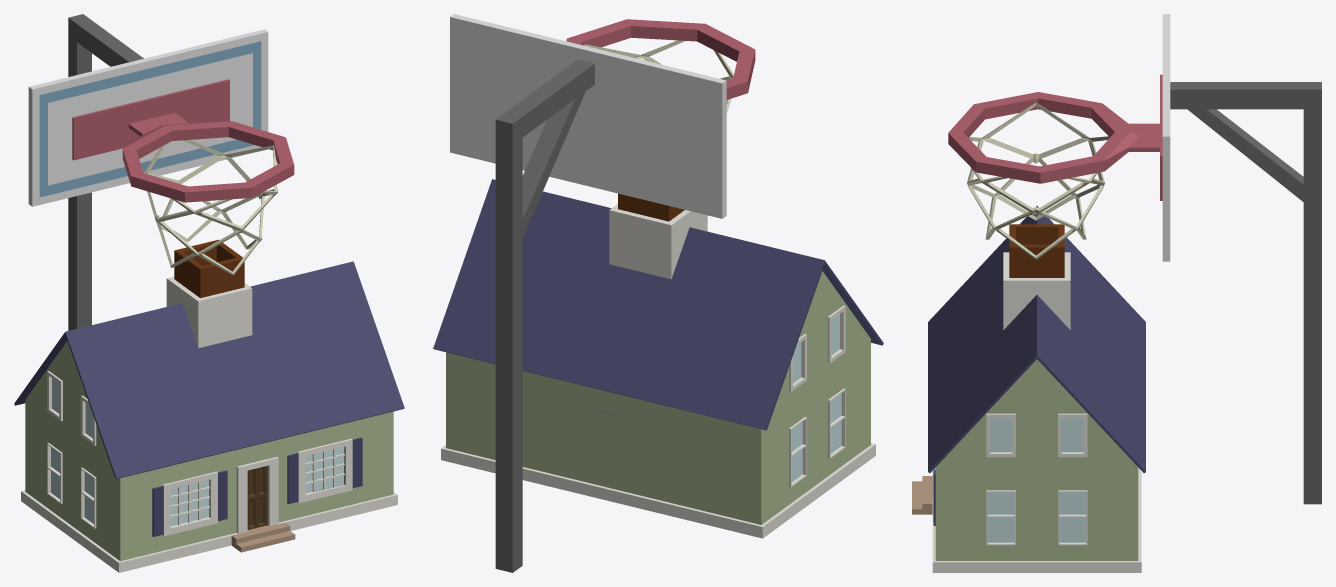
File: goalHouse_mdl_v001.fbx
3 views of the same model, side by side, from view 1: azimuth 30°, elevation 25°; view 2: azimuth 150°, elevation 25°; view 3: azimuth 270°, elevation 25° (orthographic). The views are drawn at different scales.
Visible parts, largest first — view 1: house, backboard, hoop, stand, net, door; view 2: house, backboard, stand, hoop, net; view 3: house, stand, hoop, net, backboard.
Boxes of the visible parts, x1=… form: house: x1=14, y1=239, x2=404, y2=572; backboard: x1=28, y1=29, x2=268, y2=206; hoop: x1=72, y1=79, x2=294, y2=202; stand: x1=68, y1=14, x2=143, y2=330; net: x1=144, y1=140, x2=277, y2=275; door: x1=247, y1=465, x2=267, y2=529; house: x1=433, y1=179, x2=883, y2=538; backboard: x1=450, y1=14, x2=726, y2=218; stand: x1=495, y1=59, x2=594, y2=572; hoop: x1=566, y1=19, x2=755, y2=99; net: x1=584, y1=40, x2=733, y2=113; house: x1=912, y1=206, x2=1145, y2=572; stand: x1=1170, y1=82, x2=1321, y2=504; hoop: x1=948, y1=74, x2=1162, y2=200; net: x1=967, y1=102, x2=1109, y2=259; backboard: x1=1162, y1=14, x2=1170, y2=261.
Bounding box in the file's own units: 395 × 523 × 457.
